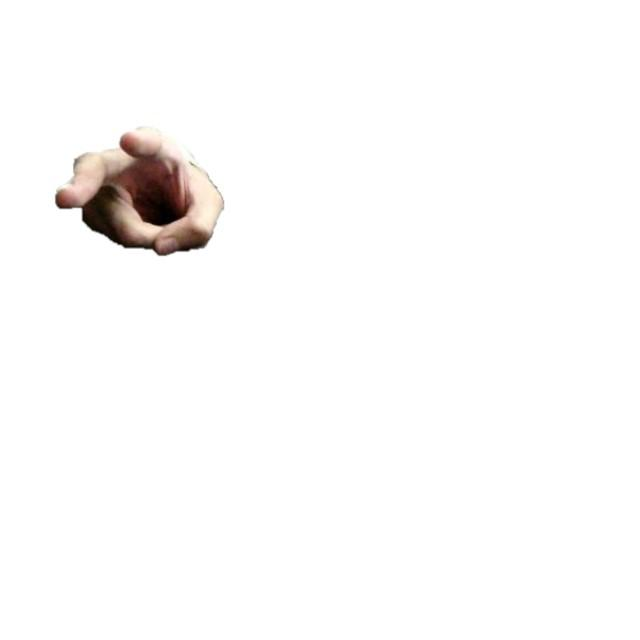tyoki: (54, 124, 225, 257)
